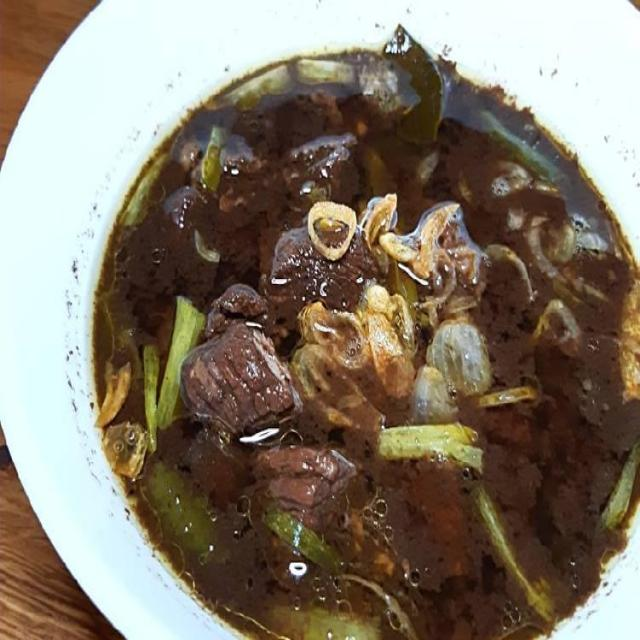Rawon: (86, 50, 630, 621)
